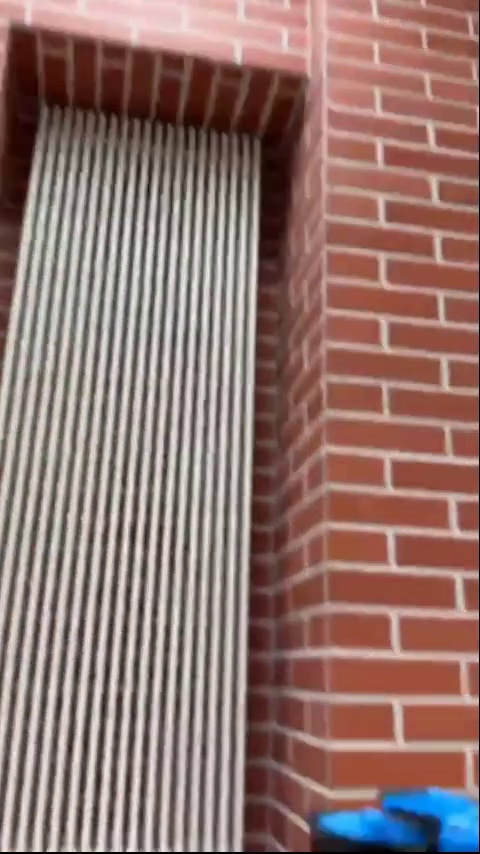drone: (310, 791, 480, 850)
